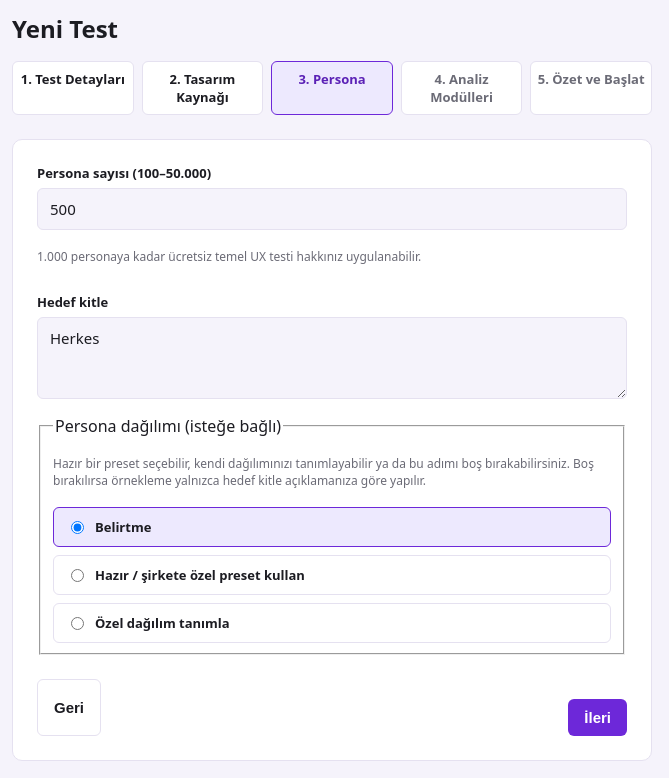
it: TestWizard › adim gecisi sirasinda API hatasi sessizce yutulmaz, gorunur hata mesaji gosterilir
Expected: the list item "3. Persona" is shown, left=271, top=61, right=393, bottom=115
Click the button "İleri" at [598, 717], box left=568, top=699, right=627, bottom=736
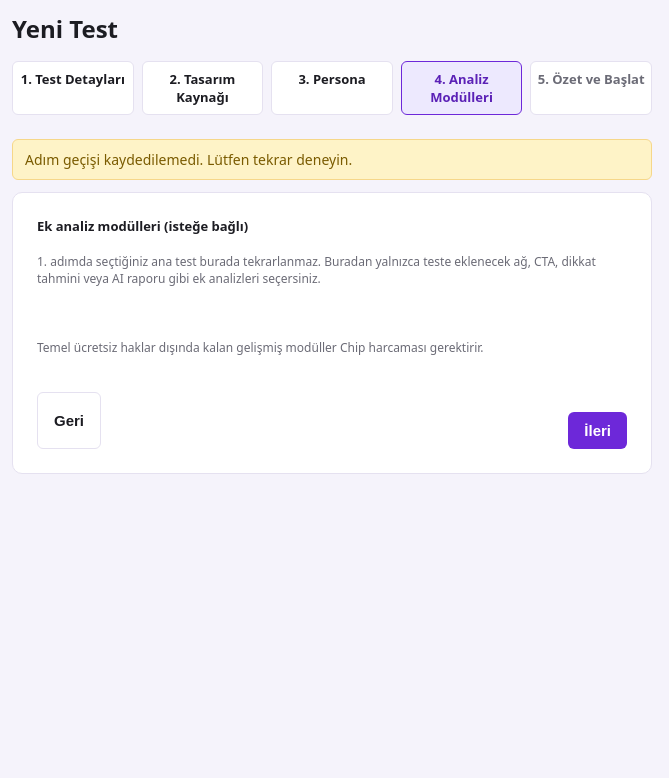
Expected: the text "Adım geçişi kaydedilemedi. Lütfen tekrar deneyin." is shown, left=12, top=139, right=652, bottom=180
